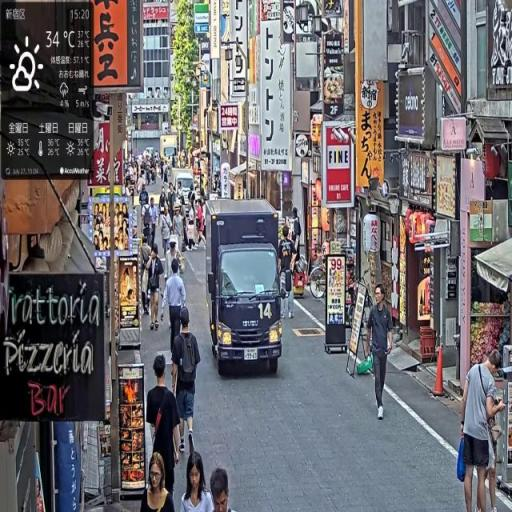person: (458, 348, 507, 512), (147, 353, 183, 508), (172, 310, 202, 461), (368, 281, 397, 424), (164, 260, 189, 359), (139, 451, 177, 512), (181, 452, 216, 512), (146, 244, 167, 334)
